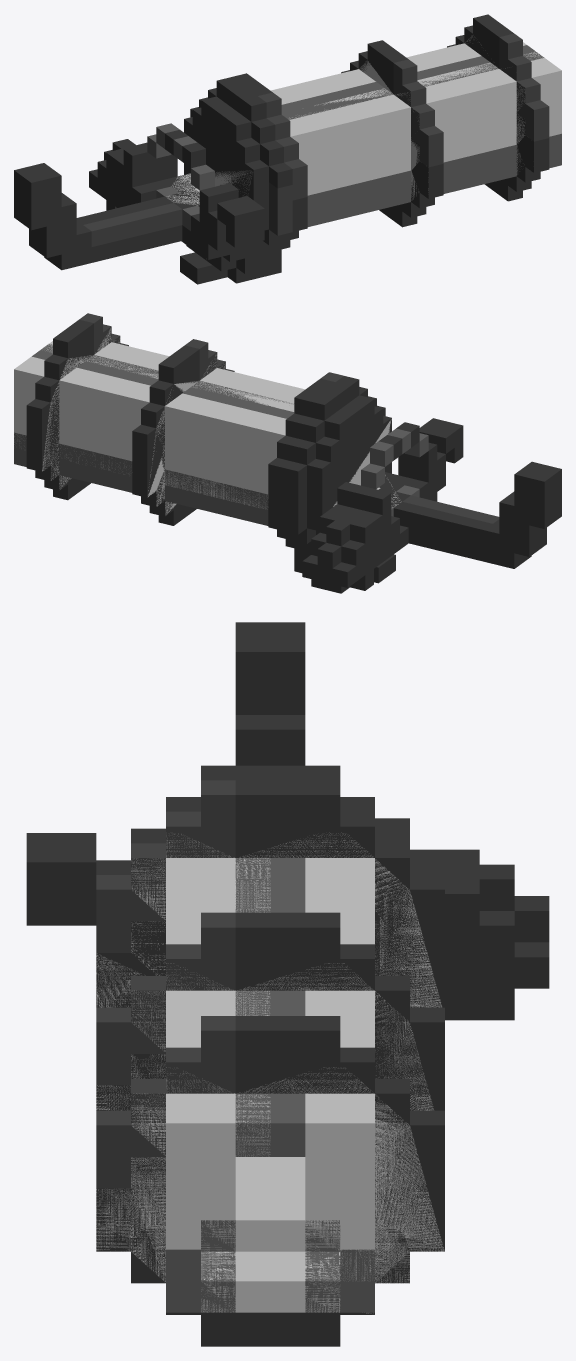
Rendered from Minigun_Anim.fbx.
The picture shows the model from 3 angles, top to bottom: view 1: azimuth 30°, elevation 25°; view 2: azimuth 150°, elevation 25°; view 3: azimuth 270°, elevation 25°; orthographic projection. The views are drawn at different scales.
Parts seen in each view (by area): view 1: MinigunFrame1:Mesh, MinigunFrame3:Mesh, MinigunFrame5:Mesh, MinigunFrame2:Mesh, MinigunFrame4:Mesh; view 2: MinigunFrame1:Mesh, MinigunFrame5:Mesh, MinigunFrame3:Mesh, MinigunFrame2:Mesh, MinigunFrame4:Mesh; view 3: MinigunFrame1:Mesh, MinigunFrame2:Mesh, MinigunFrame3:Mesh, MinigunFrame4:Mesh, MinigunFrame5:Mesh.
Part boxes in pixels (box(x1,y1,x2,y2)): MinigunFrame1:Mesh: box(14, 14, 561, 284); MinigunFrame3:Mesh: box(290, 36, 561, 164); MinigunFrame5:Mesh: box(271, 42, 561, 195); MinigunFrame2:Mesh: box(166, 35, 551, 205); MinigunFrame4:Mesh: box(299, 85, 561, 200); MinigunFrame1:Mesh: box(14, 313, 561, 593); MinigunFrame5:Mesh: box(14, 356, 286, 497); MinigunFrame3:Mesh: box(14, 342, 305, 494); MinigunFrame2:Mesh: box(14, 328, 401, 514); MinigunFrame4:Mesh: box(14, 340, 276, 513); MinigunFrame1:Mesh: box(26, 622, 549, 1346); MinigunFrame2:Mesh: box(96, 832, 444, 1313); MinigunFrame3:Mesh: box(166, 858, 443, 1312); MinigunFrame4:Mesh: box(131, 858, 441, 1313); MinigunFrame5:Mesh: box(166, 858, 443, 1279).
Bounding box in the file's own units: 34 × 11 × 15.
